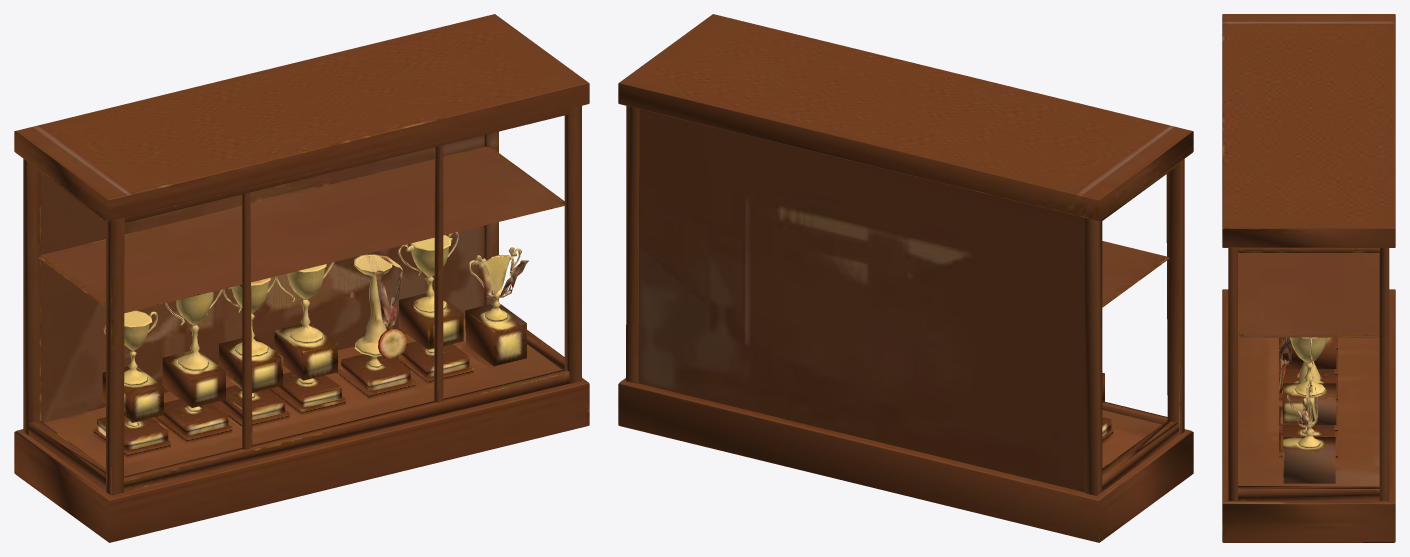
The model's file is trophy_case.glb.
3 views of the same model, side by side, from view 1: azimuth 30°, elevation 25°; view 2: azimuth 150°, elevation 25°; view 3: azimuth 270°, elevation 25° (orthographic). The views are drawn at different scales.
Bounding box in the file's own units: 0.957 × 0.6538 × 0.3262.
1 material, 1 textured.
